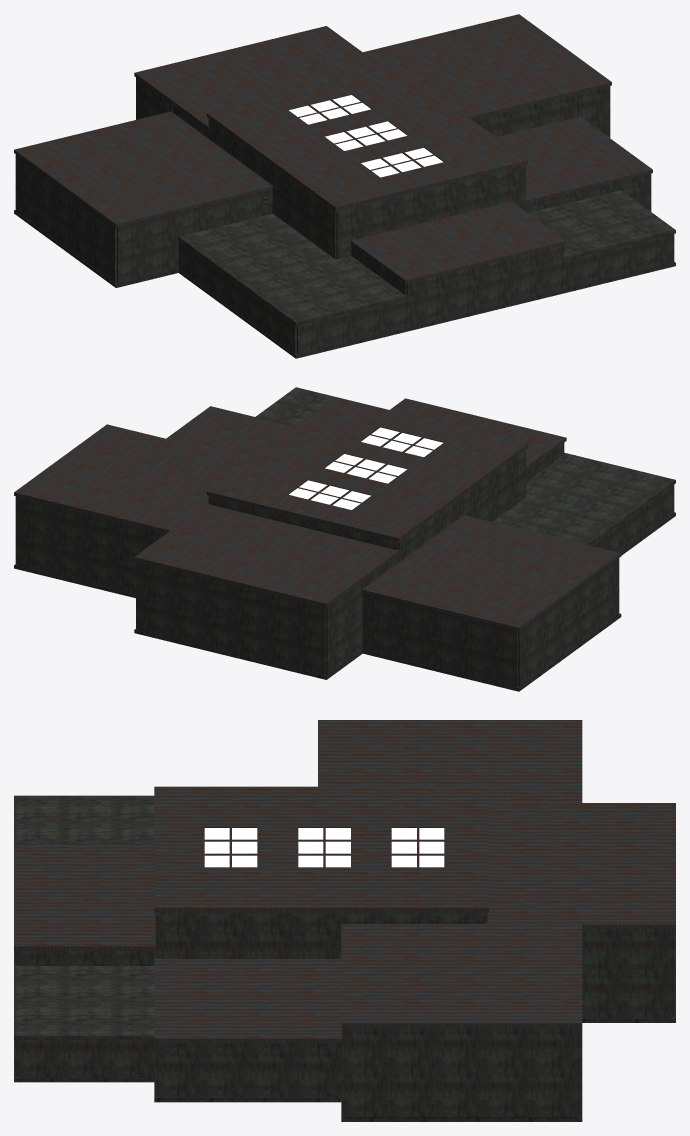
The model's file is Factory_Architecture.fbx.
3 views of the same model, one above another, from view 1: azimuth 30°, elevation 25°; view 2: azimuth 150°, elevation 25°; view 3: azimuth 270°, elevation 25° (orthographic). The views are drawn at different scales.
Visible parts, largest first — view 1: Arch_Roofs_Ceilings, Arch_Walls_Concrete, Arch_Glass_Skylights, Arch_Floors, Arch_Columns_Trusses; view 2: Arch_Roofs_Ceilings, Arch_Walls_Concrete, Arch_Glass_Skylights, Arch_Floors, Arch_Columns_Trusses; view 3: Arch_Roofs_Ceilings, Arch_Walls_Concrete, Arch_Glass_Skylights, Arch_Floors, Arch_Columns_Trusses.
Part boxes in pixels (box(x1,y1,x2,y2)): Arch_Roofs_Ceilings: box(14, 14, 675, 325); Arch_Walls_Concrete: box(15, 77, 674, 354); Arch_Glass_Skylights: box(289, 95, 443, 177); Arch_Floors: box(14, 210, 675, 358); Arch_Columns_Trusses: box(287, 94, 444, 177); Arch_Roofs_Ceilings: box(14, 387, 675, 630); Arch_Walls_Concrete: box(15, 443, 674, 687); Arch_Glass_Skylights: box(289, 427, 443, 509); Arch_Floors: box(14, 512, 675, 691); Arch_Columns_Trusses: box(287, 426, 444, 510); Arch_Roofs_Ceilings: box(14, 720, 675, 1042); Arch_Walls_Concrete: box(14, 913, 675, 1117); Arch_Glass_Skylights: box(204, 828, 444, 867); Arch_Floors: box(14, 928, 675, 1121); Arch_Columns_Trusses: box(204, 826, 444, 867).
Size of what is drawn, in the model's own units: 64.6 by 10.85 by 56.6.
